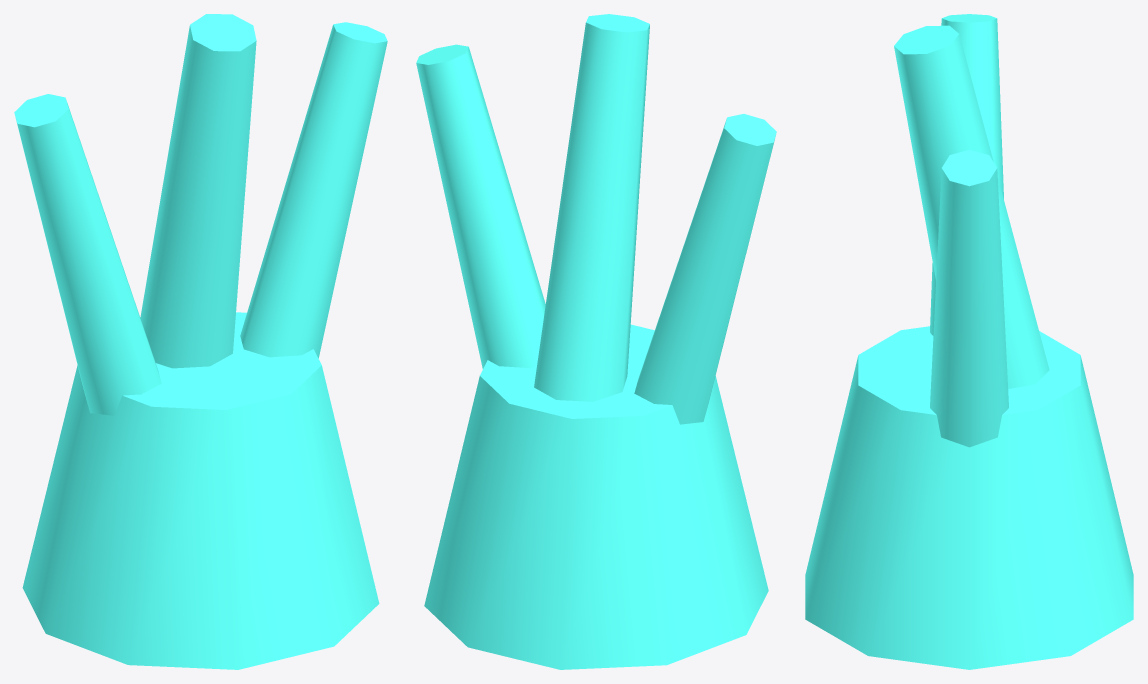
File: mon_hydra.glb
The picture shows the model from 3 angles, left to right: view 1: azimuth 30°, elevation 25°; view 2: azimuth 150°, elevation 25°; view 3: azimuth 270°, elevation 25°; orthographic projection. The views are drawn at different scales.
Visible parts, largest first — view 1: hydra_scales; view 2: hydra_scales; view 3: hydra_scales.
Part boxes in pixels (left/top/right/bottom): hydra_scales: left=14, top=14, right=387, bottom=669; hydra_scales: left=416, top=14, right=776, bottom=669; hydra_scales: left=805, top=14, right=1133, bottom=669.
Bounding box in the file's own units: 1.47 × 2.23 × 1.18.
